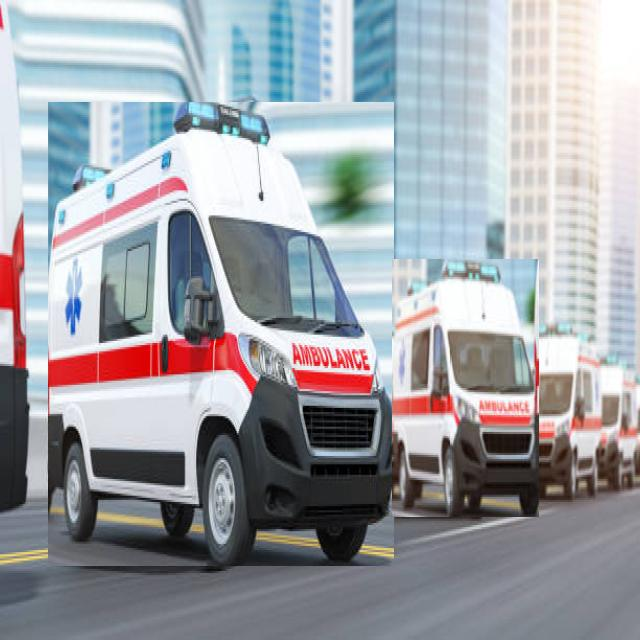emergency: (49, 103, 394, 566), (392, 260, 539, 517)
